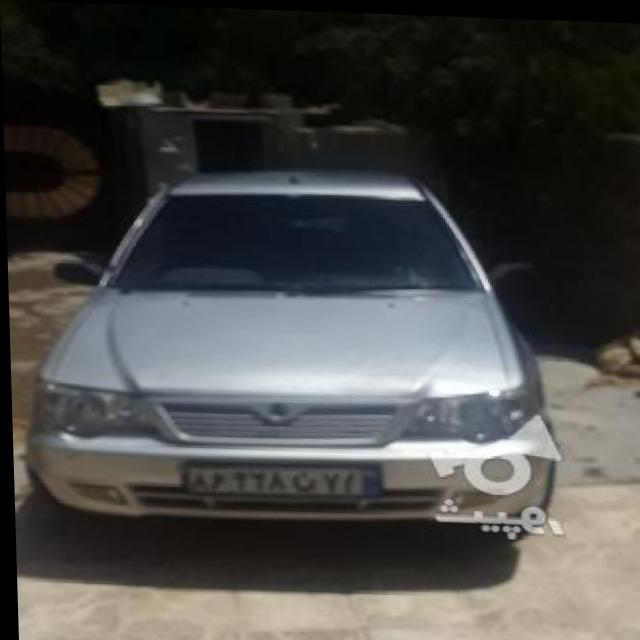licence: (183, 453, 385, 498)
